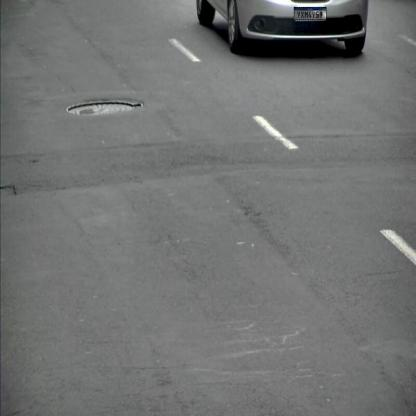PlacaM: (294, 7, 326, 20)
